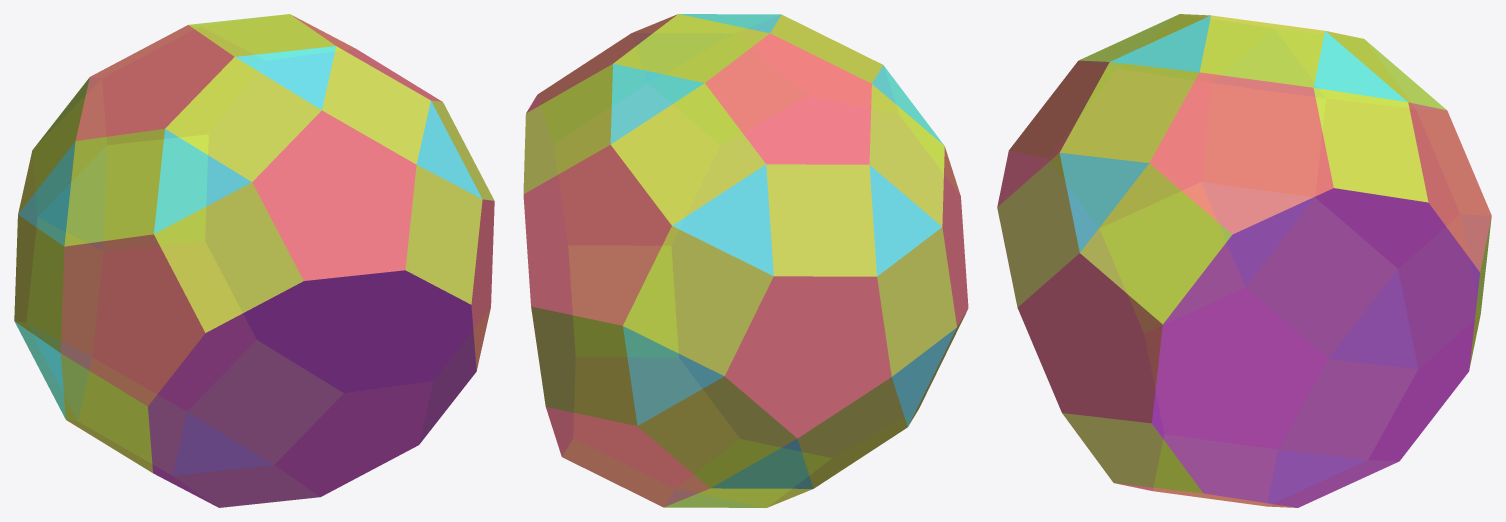
File: j81_metabidiminished_rhombicosidodecahedron.obj
3 views of the same model, side by side, from view 1: azimuth 30°, elevation 25°; view 2: azimuth 150°, elevation 25°; view 3: azimuth 270°, elevation 25° (orthographic). The views are drawn at different scales.
Size of the model in its own units: 1.93 by 1.97 by 1.93.
